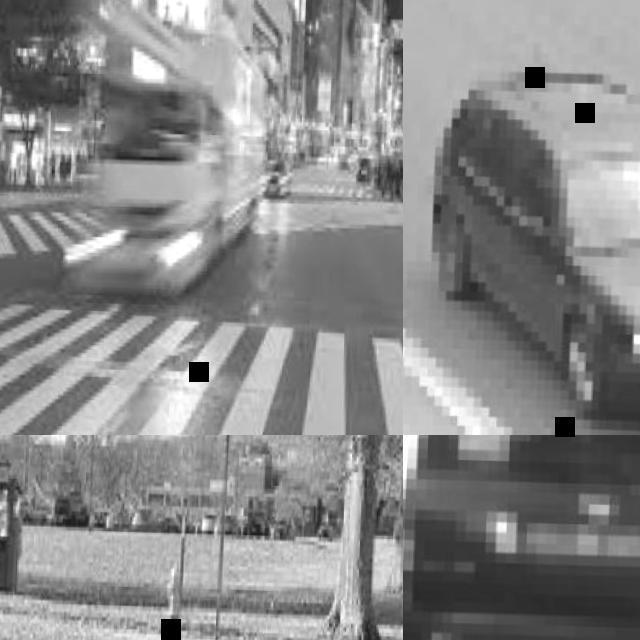car: (11, 0, 290, 301), (428, 71, 640, 450)
